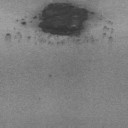iron sheet ash: (32, 2, 96, 38), (21, 22, 26, 26)
